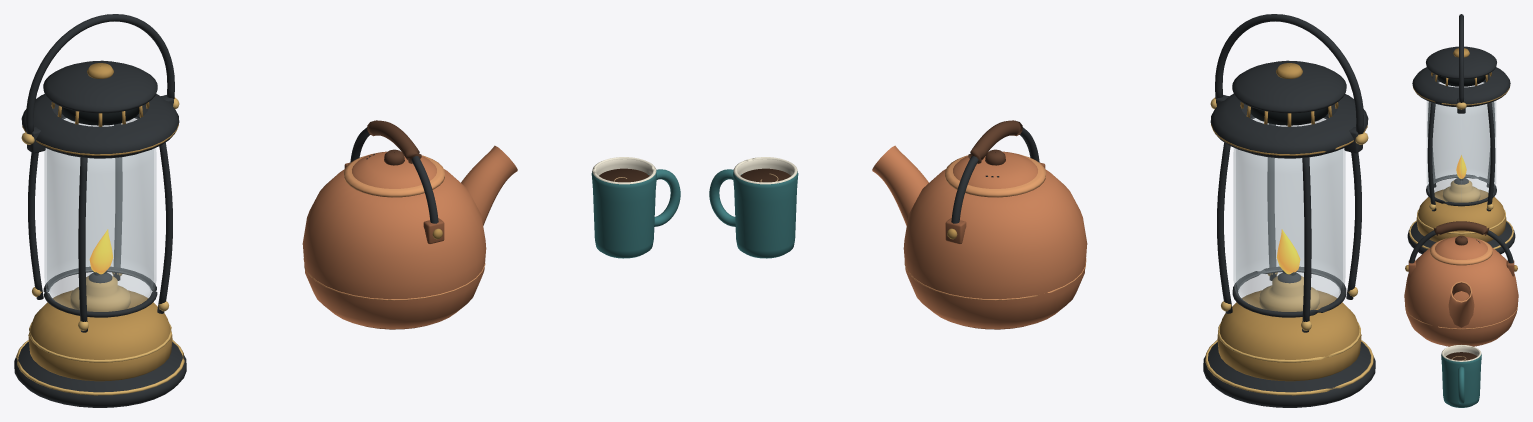
The model's file is hearth_props.glb.
The picture shows the model from 3 angles, left to right: view 1: azimuth 30°, elevation 25°; view 2: azimuth 150°, elevation 25°; view 3: azimuth 270°, elevation 25°; orthographic projection. The views are drawn at different scales.
Parts seen in each view (by area): view 1: Kettle.CopperBody, Lantern.GlassChimney, Lantern.CopperFuelReservoir, Lantern.LowerLid, Mug.ThickGlazedCeramic, Lantern.Foot, Lantern.VentRainCap, Lantern.CurvedCarryingHandle, Kettle.CurvedCopperSpout, Kettle.DomedLid, Lantern.Burner, Lantern.LowerGlassSeat (+11 smaller); view 2: Kettle.CopperBody, Lantern.GlassChimney, Lantern.CopperFuelReservoir, Lantern.LowerLid, Mug.ThickGlazedCeramic, Lantern.Foot, Lantern.VentRainCap, Lantern.CurvedCarryingHandle, Kettle.CurvedCopperSpout, Kettle.DomedLid, Lantern.Burner, Lantern.LowerGlassSeat (+11 smaller); view 3: Kettle.CopperBody, Lantern.GlassChimney, Lantern.CopperFuelReservoir, Lantern.LowerLid, Mug.ThickGlazedCeramic, Lantern.VentRainCap, Kettle.DomedLid, Lantern.Foot, Lantern.Burner, Kettle.CurvedCopperSpout, Lantern.CageRail.00, Lantern.CageRail.03 (+17 smaller).
Boxes of the visible parts, x1,y1,x2,y2 form: Kettle.CopperBody: (302,169,486,328); Lantern.GlassChimney: (44,117,156,311); Lantern.CopperFuelReservoir: (28,290,172,381); Lantern.LowerLid: (21,93,179,158); Mug.ThickGlazedCeramic: (591,159,656,258); Lantern.Foot: (14,341,186,407); Lantern.VentRainCap: (43,60,157,113); Lantern.CurvedCarryingHandle: (26,14,174,134); Kettle.CurvedCopperSpout: (461,145,517,225); Kettle.DomedLid: (352,151,436,188); Lantern.Burner: (70,276,130,311); Lantern.LowerGlassSeat: (43,266,157,317); Kettle.CopperBody: (903,169,1087,328); Lantern.GlassChimney: (1233,117,1345,311); Lantern.CopperFuelReservoir: (1217,290,1361,381); Lantern.LowerLid: (1210,93,1368,158); Mug.ThickGlazedCeramic: (733,158,798,258); Lantern.Foot: (1203,341,1375,407); Lantern.VentRainCap: (1232,60,1346,113); Lantern.CurvedCarryingHandle: (1215,14,1363,134); Kettle.CurvedCopperSpout: (872,145,928,225); Kettle.DomedLid: (953,151,1037,188); Lantern.Burner: (1259,276,1319,311); Lantern.LowerGlassSeat: (1232,266,1346,317); Kettle.CopperBody: (1404,248,1518,346); Lantern.GlassChimney: (1427,82,1495,202); Lantern.CopperFuelReservoir: (1416,189,1506,242); Lantern.LowerLid: (1412,67,1510,107); Mug.ThickGlazedCeramic: (1441,345,1481,407); Lantern.VentRainCap: (1426,46,1496,78); Kettle.DomedLid: (1435,236,1487,259); Lantern.Foot: (1407,221,1515,254); Lantern.Burner: (1442,180,1480,202); Kettle.CurvedCopperSpout: (1448,293,1474,327); Lantern.CageRail.00: (1486,102,1495,211); Lantern.CageRail.03: (1427,102,1436,211).
Size of the model in its own units: 1.23 by 0.6445 by 0.298.
